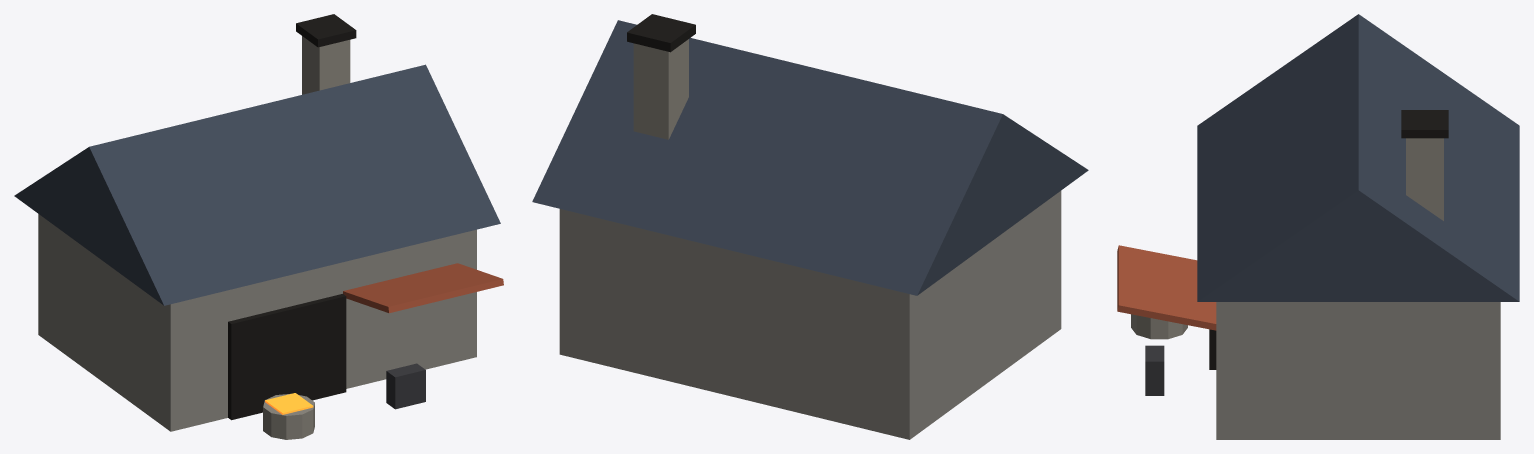
The model's file is smithy.glb.
The picture shows the model from 3 angles, left to right: view 1: azimuth 30°, elevation 25°; view 2: azimuth 150°, elevation 25°; view 3: azimuth 270°, elevation 25°; orthographic projection. The views are drawn at different scales.
Parts seen in each view (by area): view 1: Smithy; view 2: Smithy; view 3: Smithy.
Part boxes in pixels (bbox=[...]): Smithy: bbox=[14, 14, 503, 439]; Smithy: bbox=[532, 14, 1088, 439]; Smithy: bbox=[1117, 14, 1519, 439].
Bounding box in the file's own units: 8.8 × 6.8 × 8.49.
